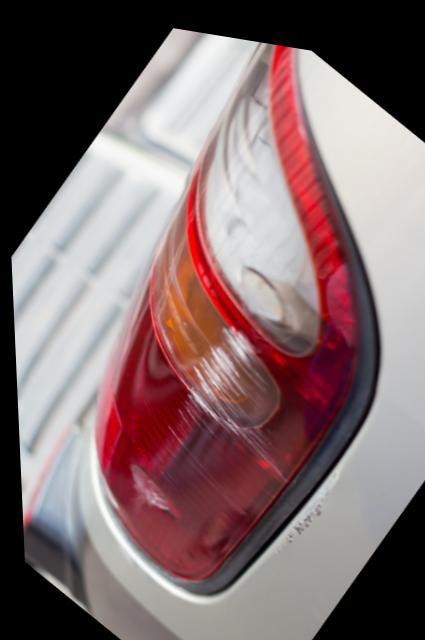scratch: (148, 320, 282, 497), (270, 463, 329, 546)
